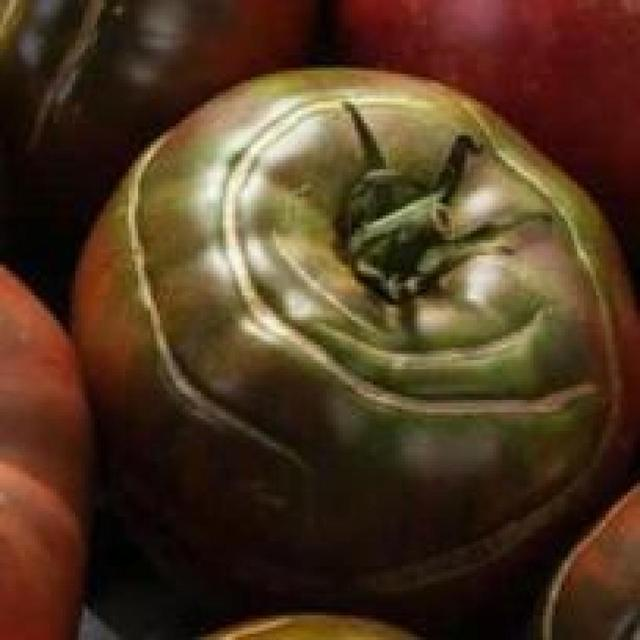Cracking Fruit: (120, 99, 274, 349)
